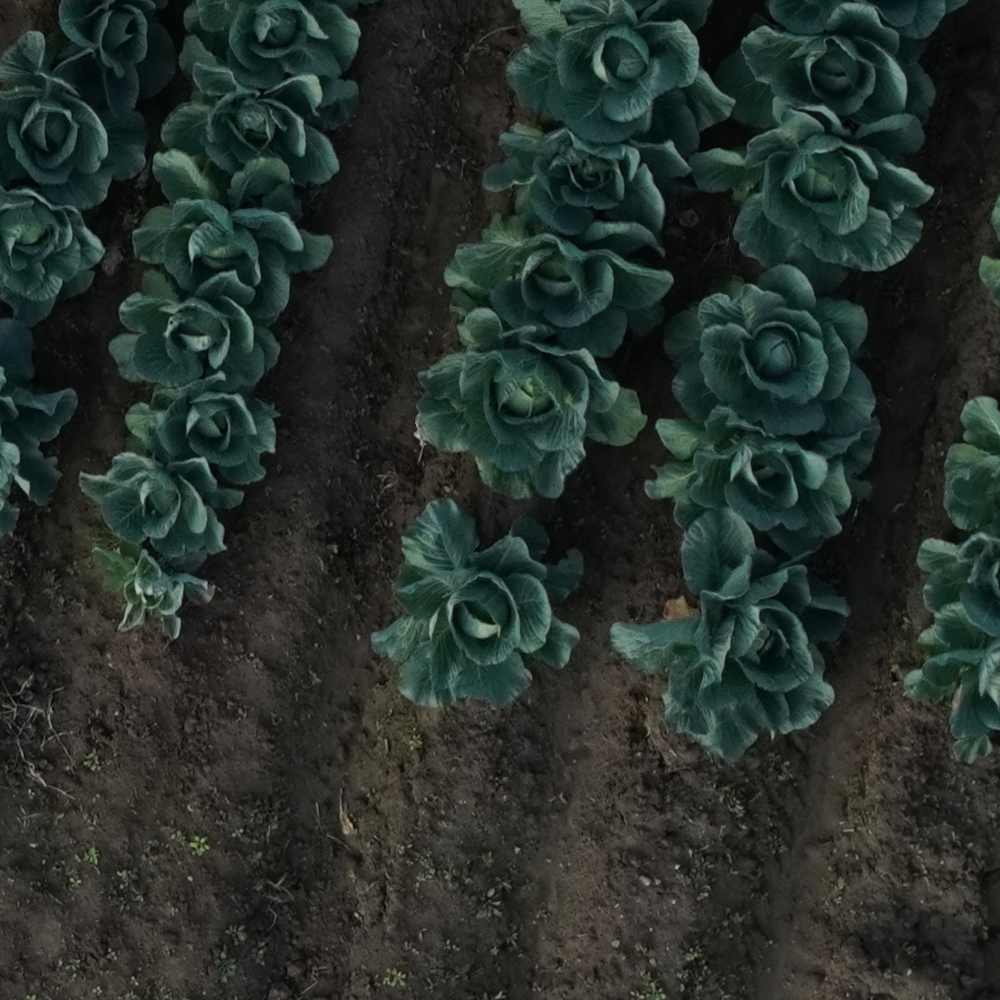Cabbage: (610, 509, 847, 763), (415, 291, 648, 500), (370, 499, 583, 710), (691, 108, 933, 292), (666, 265, 877, 437), (133, 152, 335, 326), (507, 0, 735, 154), (647, 408, 880, 558), (445, 213, 675, 358), (161, 36, 359, 190), (724, 4, 937, 135), (1, 30, 148, 210), (482, 123, 690, 238), (110, 268, 281, 390), (79, 450, 246, 557), (126, 373, 279, 486), (0, 320, 77, 537), (186, 1, 361, 86), (906, 605, 1000, 763), (54, 1, 176, 118), (0, 185, 103, 322), (93, 542, 216, 641), (918, 532, 1000, 638), (768, 1, 969, 41), (943, 395, 1000, 532)
